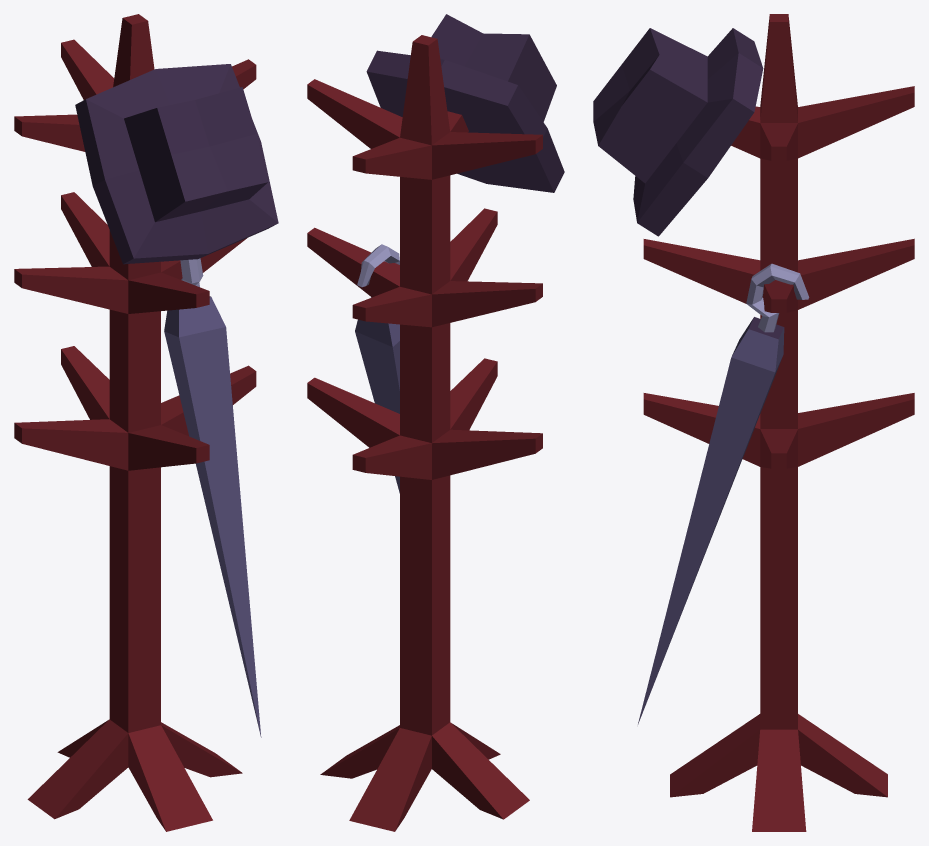
File: Cabideiro.fbx
3 renders of one model, left to right at view 1: azimuth 30°, elevation 25°; view 2: azimuth 150°, elevation 25°; view 3: azimuth 270°, elevation 25°, orthographic. The views are drawn at different scales.
Visible parts, largest first — view 1: Cabideiro; view 2: Cabideiro; view 3: Cabideiro.
Boxes of the visible parts, x1=… form: Cabideiro: x1=14, y1=14, x2=278, y2=831; Cabideiro: x1=307, y1=14, x2=564, y2=831; Cabideiro: x1=593, y1=14, x2=914, y2=831.
Size of the model in its own units: 1.57 by 4.93 by 1.87.
